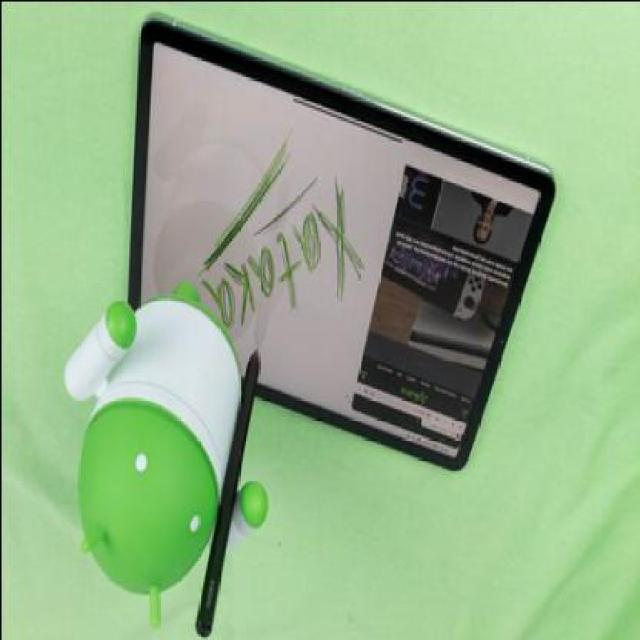tablet: (132, 12, 533, 434)
